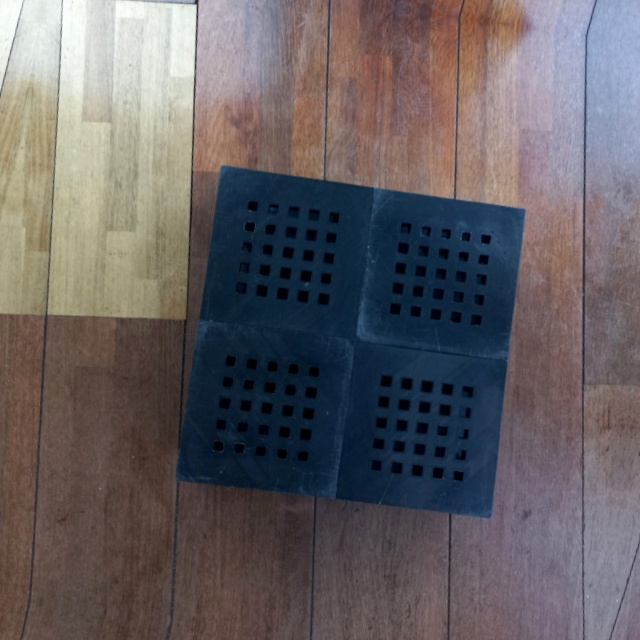pallet: (167, 159, 534, 529)
